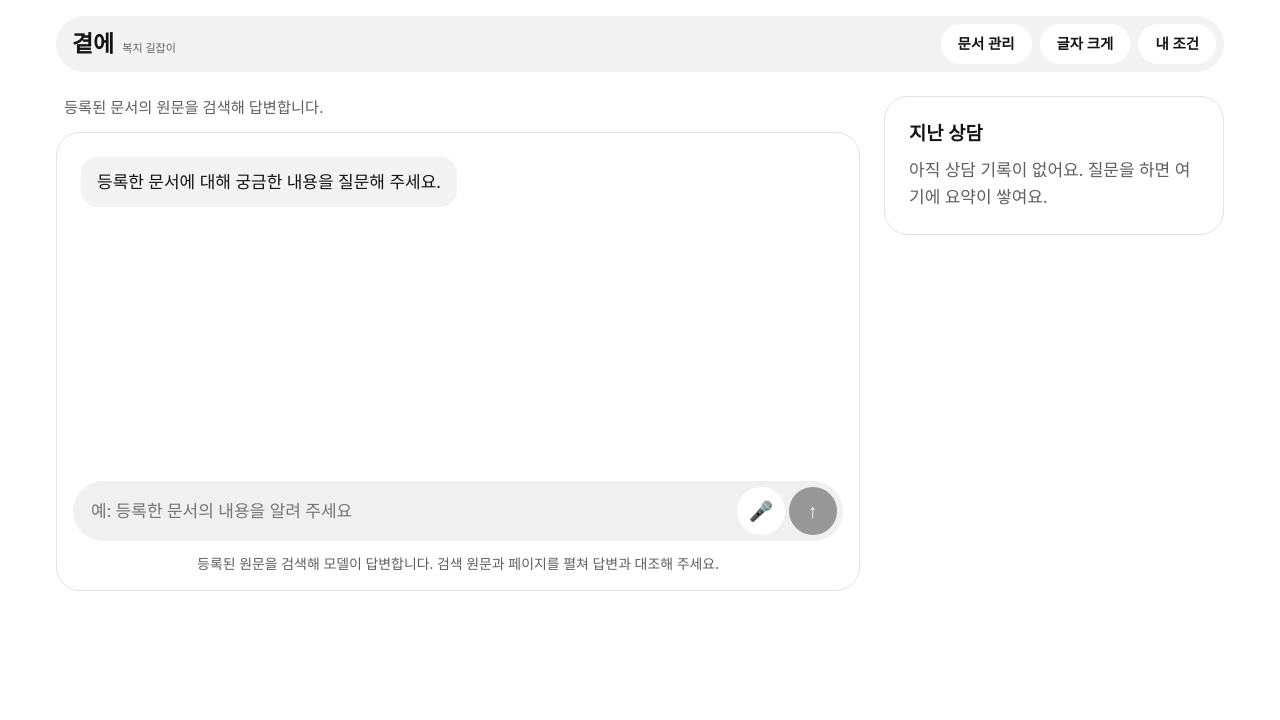
Test case: 기본 채팅은 실제 API를 사용한다
The image size is (1280, 720).
Type "제도 지원 내용" into the field named "궁금한 내용".
click(406, 511); type("제도 지원 내용")  # box 79,487 -> 733,535
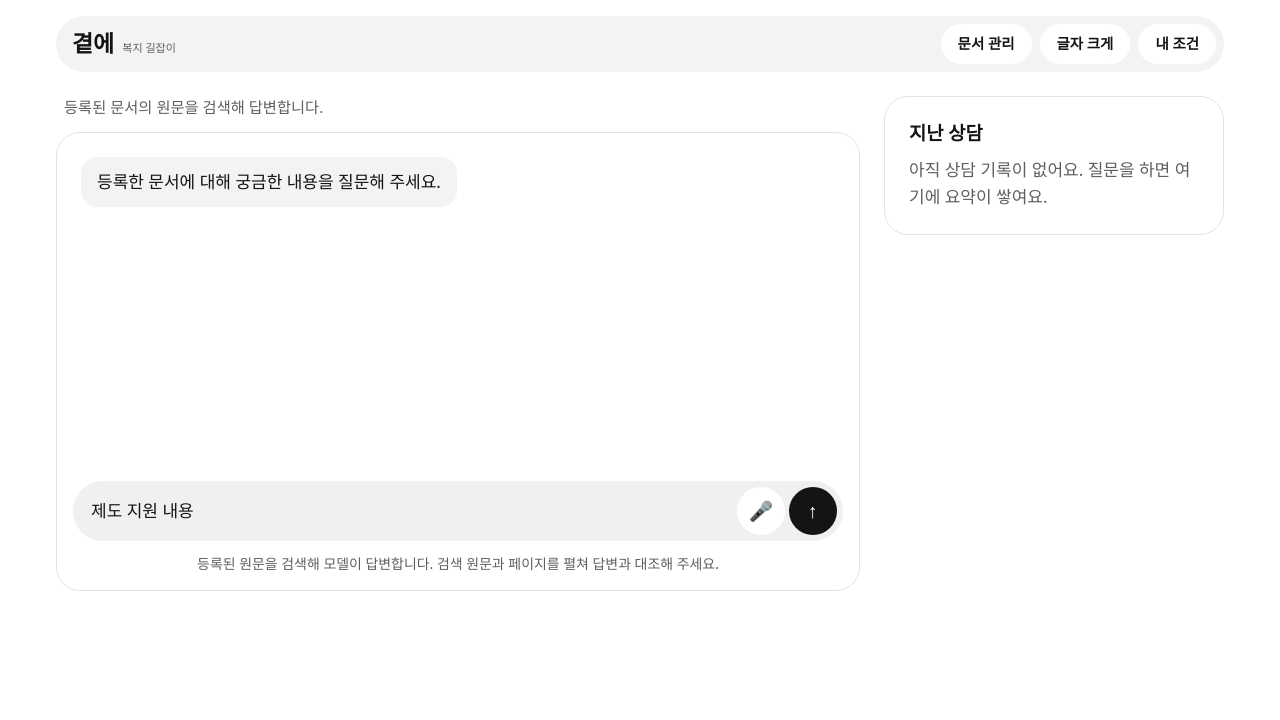
Click the button named "질문 보내기".
click(813, 511)  # box 789,487 -> 837,535
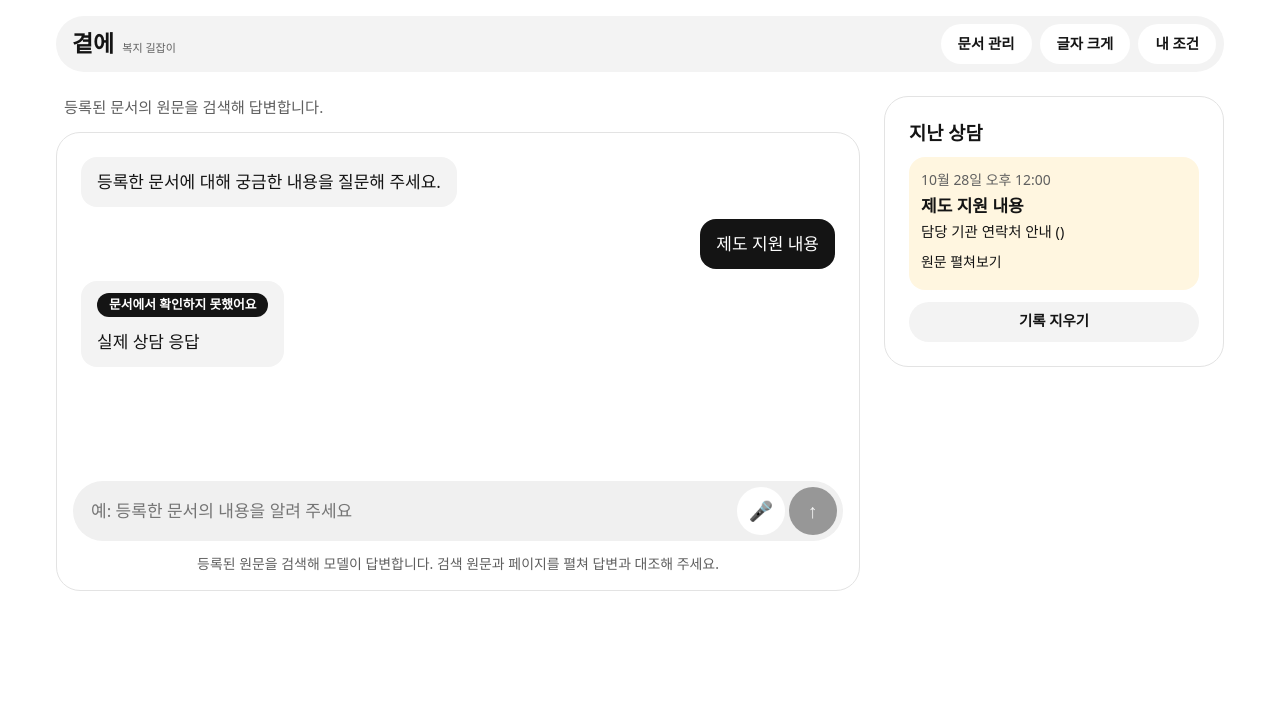
expect the text "실제 상담 응답" is shown: met, box 97,330 -> 200,353
